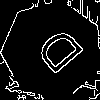D: (27, 25, 86, 83)
